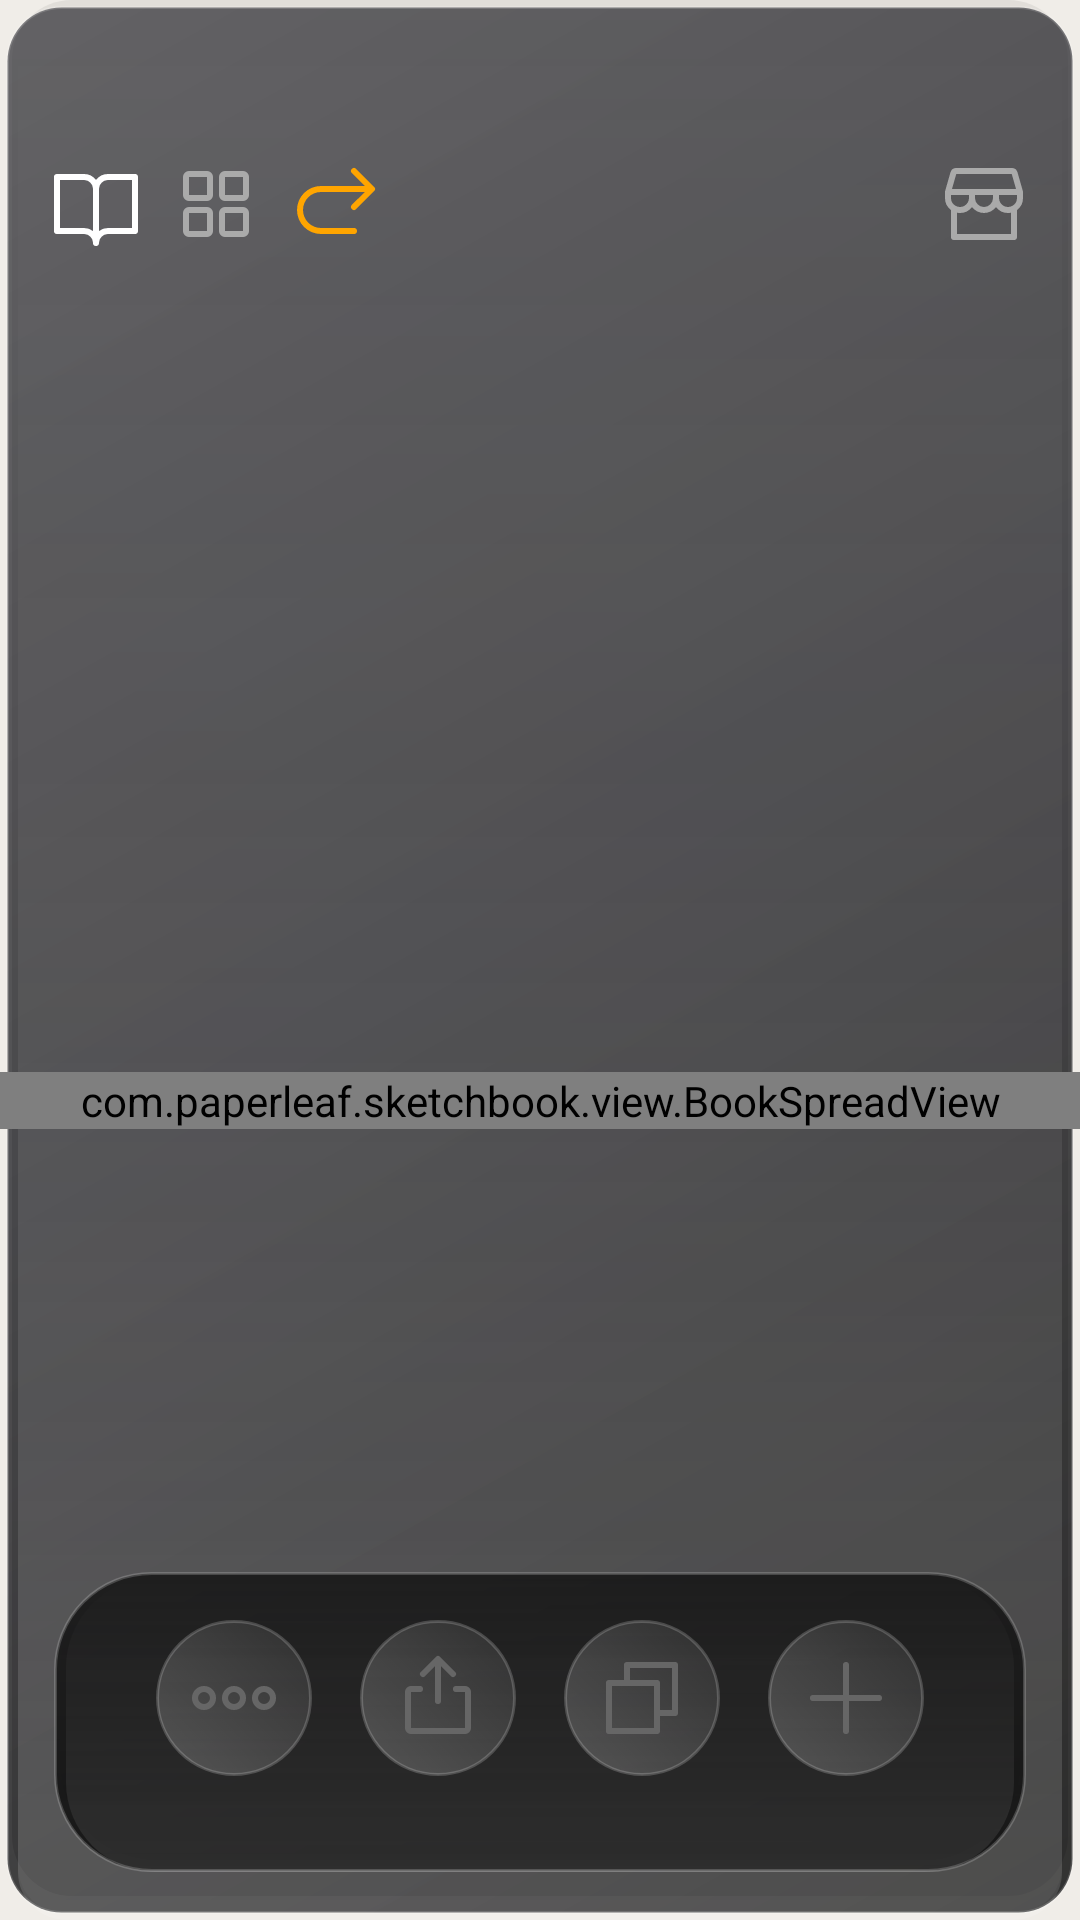

Icon bounding boxes for this 1080×1920 phone screenshot, format (x1, y1, x2, y2):
add: (768, 1620, 924, 1776)
book open: (54, 174, 138, 246)
grid: (183, 171, 249, 237)
paper store: (945, 168, 1023, 240)
share: (360, 1620, 516, 1776)
